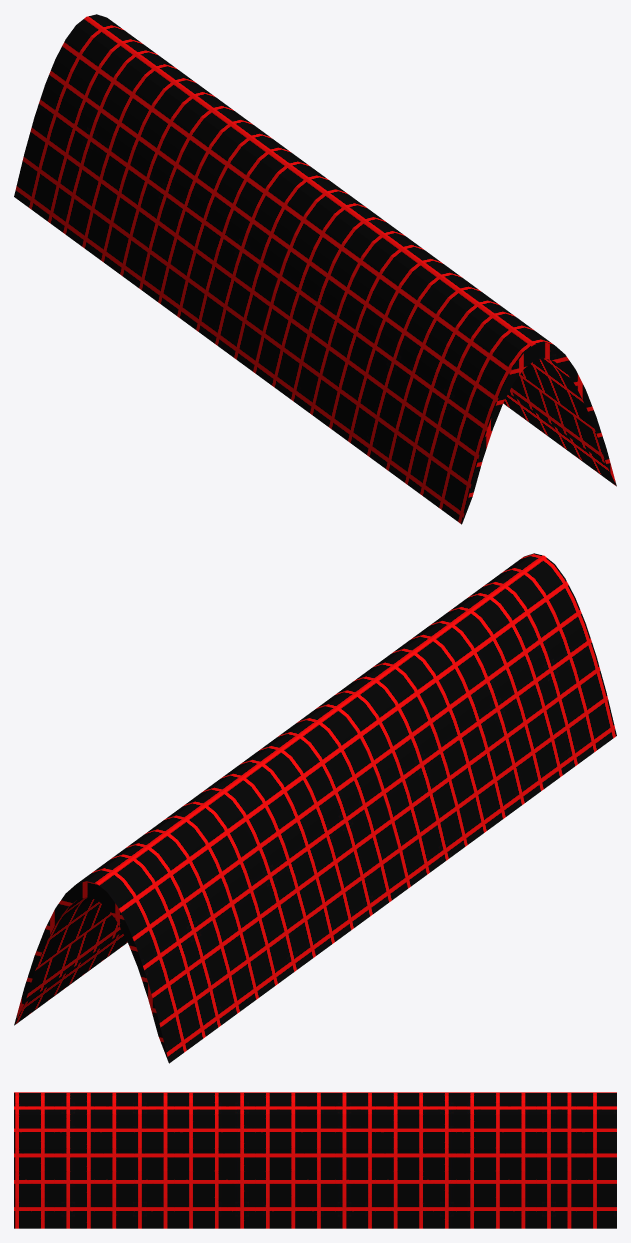
Rendered from parabolic_cylinder_20_grid.obj.
3 renders of one model, top to bottom at view 1: azimuth 30°, elevation 25°; view 2: azimuth 150°, elevation 25°; view 3: azimuth 270°, elevation 25°, orthographic. The views are drawn at different scales.
Parts seen in each view (by area): view 1: z_20_Z_Function; view 2: z_20_Z_Function; view 3: z_20_Z_Function.
Boxes of the visible parts, bbox=[...] form: z_20_Z_Function: bbox=[14, 14, 616, 524]; z_20_Z_Function: bbox=[14, 553, 616, 1063]; z_20_Z_Function: bbox=[14, 1092, 616, 1228].
Bounding box in the file's own units: 20 × 20 × 100.
1 material, 1 textured.
